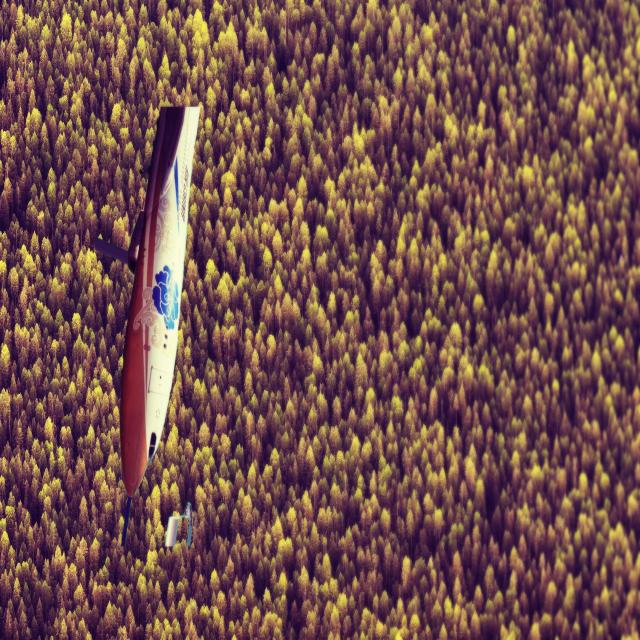airplane: (92, 104, 200, 547)
